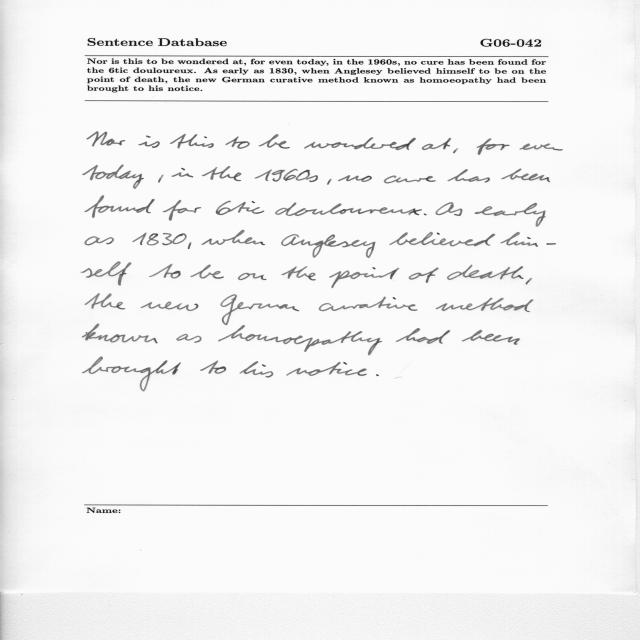word: (281, 232, 495, 258), (218, 325, 382, 355), (82, 357, 181, 391), (221, 295, 299, 326), (275, 202, 422, 216), (474, 203, 546, 227), (85, 195, 155, 218), (329, 267, 399, 288), (436, 297, 534, 312), (83, 165, 144, 189), (304, 137, 416, 150), (82, 324, 158, 343), (319, 297, 417, 311), (81, 262, 131, 286), (447, 265, 523, 280), (286, 362, 367, 376), (202, 230, 266, 245), (462, 330, 520, 345), (396, 328, 450, 344), (255, 169, 318, 182), (163, 200, 201, 221), (132, 233, 187, 246), (501, 169, 550, 183), (85, 293, 125, 310), (216, 201, 264, 215), (170, 134, 214, 149), (202, 166, 242, 181), (141, 302, 199, 312), (240, 361, 274, 378), (87, 132, 125, 147), (500, 232, 538, 247), (477, 138, 510, 155), (447, 169, 490, 182), (281, 266, 316, 281), (190, 264, 224, 279), (149, 264, 181, 279), (259, 134, 290, 149), (409, 268, 439, 283), (384, 176, 436, 184), (436, 202, 463, 216), (200, 360, 226, 374), (519, 143, 563, 151), (422, 138, 451, 150), (225, 136, 250, 149), (85, 236, 114, 246), (138, 136, 160, 148), (338, 175, 372, 182), (176, 334, 202, 343), (172, 168, 194, 177), (238, 273, 266, 280), (158, 175, 164, 183), (526, 278, 532, 284), (327, 179, 332, 185), (188, 242, 192, 249), (453, 149, 458, 154), (546, 243, 556, 245), (252, 201, 255, 203), (424, 214, 427, 216), (376, 374, 379, 376)
